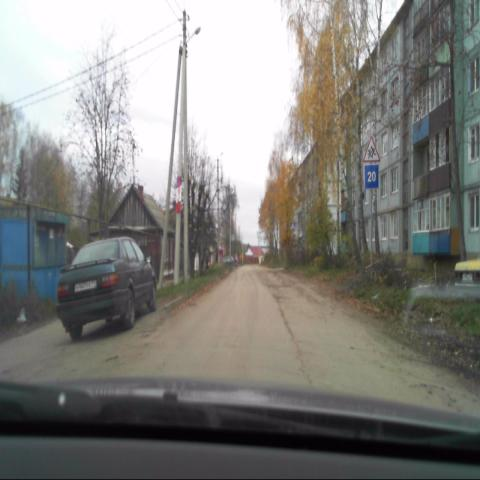6_2: (364, 163, 378, 187)
